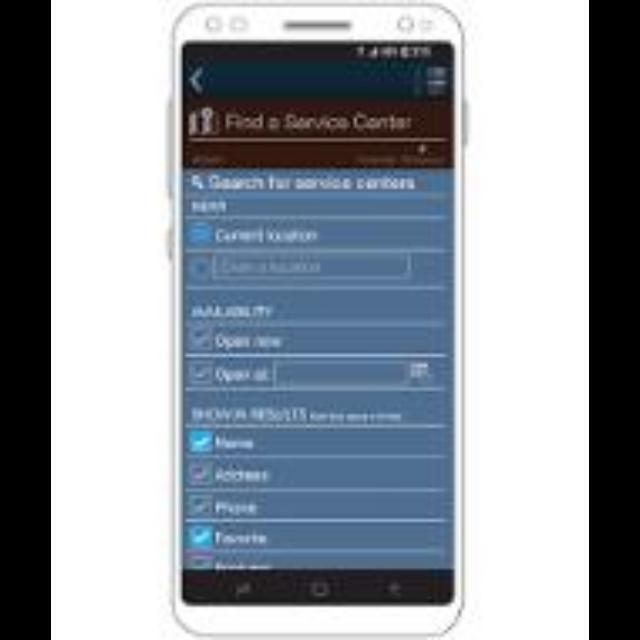Phone: (164, 0, 463, 640)
